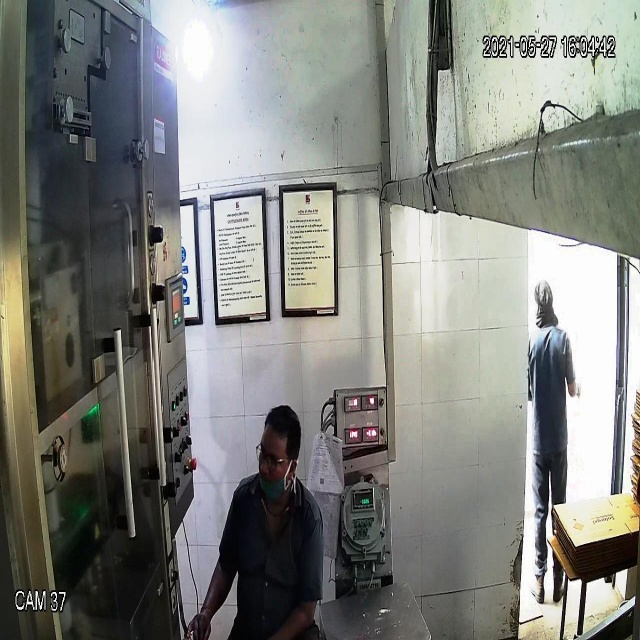Gafas: (254, 437, 300, 478)
